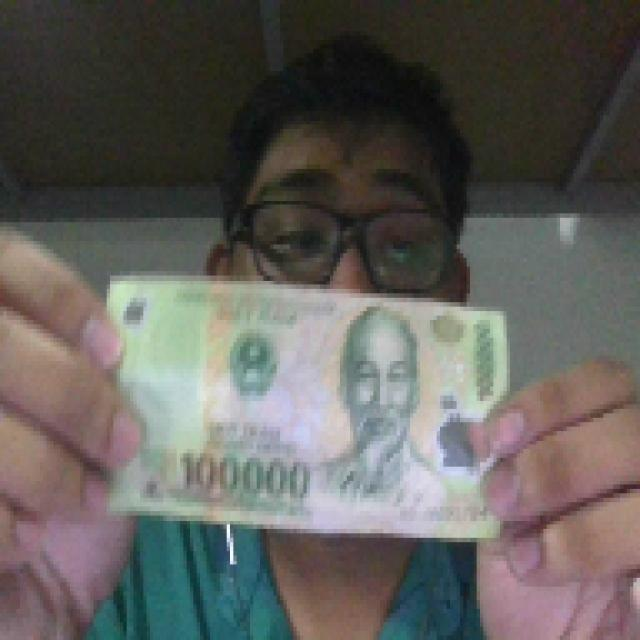100 000 VND: (96, 266, 516, 542)
